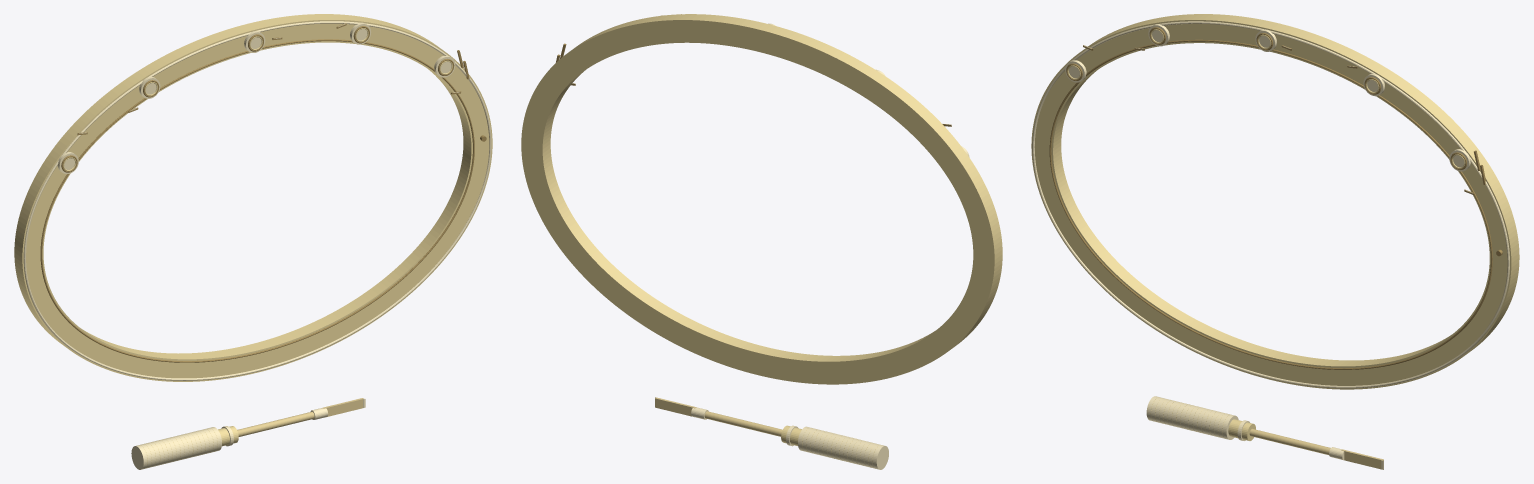
The model's file is lumeire_screw_bangle_3d.glb.
The picture shows the model from 3 angles, left to right: view 1: azimuth 30°, elevation 25°; view 2: azimuth 150°, elevation 25°; view 3: azimuth 330°, elevation 25°; orthographic projection. The views are drawn at different scales.
Parts seen in each view (by area): view 1: lumeire_screw_bangle_part_1, lumeire_screw_bangle_part_2, lumeire_screw_bangle_part_3, lumeire_screw_bangle_part_32, lumeire_screw_bangle_part_53; view 2: lumeire_screw_bangle_part_1, lumeire_screw_bangle_part_32, lumeire_screw_bangle_part_53; view 3: lumeire_screw_bangle_part_1, lumeire_screw_bangle_part_2, lumeire_screw_bangle_part_3, lumeire_screw_bangle_part_32, lumeire_screw_bangle_part_53.
Part boxes in pixels (box(x1,y1,x2,y2)): lumeire_screw_bangle_part_1: box(14, 14, 492, 381); lumeire_screw_bangle_part_2: box(23, 21, 491, 380); lumeire_screw_bangle_part_3: box(40, 39, 474, 362); lumeire_screw_bangle_part_32: box(131, 427, 221, 469); lumeire_screw_bangle_part_53: box(237, 411, 314, 436); lumeire_screw_bangle_part_1: box(521, 14, 1002, 384); lumeire_screw_bangle_part_32: box(798, 426, 888, 469); lumeire_screw_bangle_part_53: box(704, 411, 782, 436); lumeire_screw_bangle_part_1: box(1031, 14, 1519, 389); lumeire_screw_bangle_part_2: box(1032, 21, 1509, 388); lumeire_screw_bangle_part_3: box(1049, 39, 1492, 369); lumeire_screw_bangle_part_32: box(1146, 396, 1238, 439); lumeire_screw_bangle_part_53: box(1249, 428, 1330, 454).
Size of the model in its own units: 5.1 by 4.28 by 0.232.
